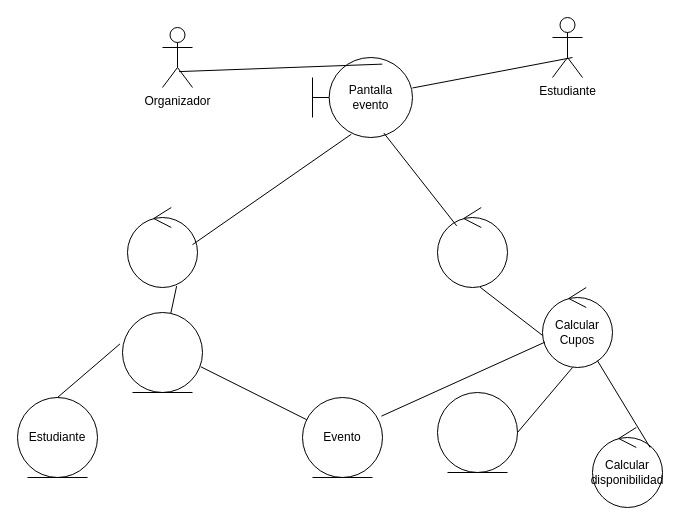
Some shapes in this 681 by 525 pixel diagram are drawn without their labels. The shapes that lost their labels are listed below. From the top down, each one's box as (x1, y1, x2, y2) in pixels, then its label:
(126, 206, 198, 288): Gestion asistencia
(436, 206, 508, 288): Gestion Reserva
(122, 312, 202, 392): Asistencia
(436, 392, 518, 472): Reserva
